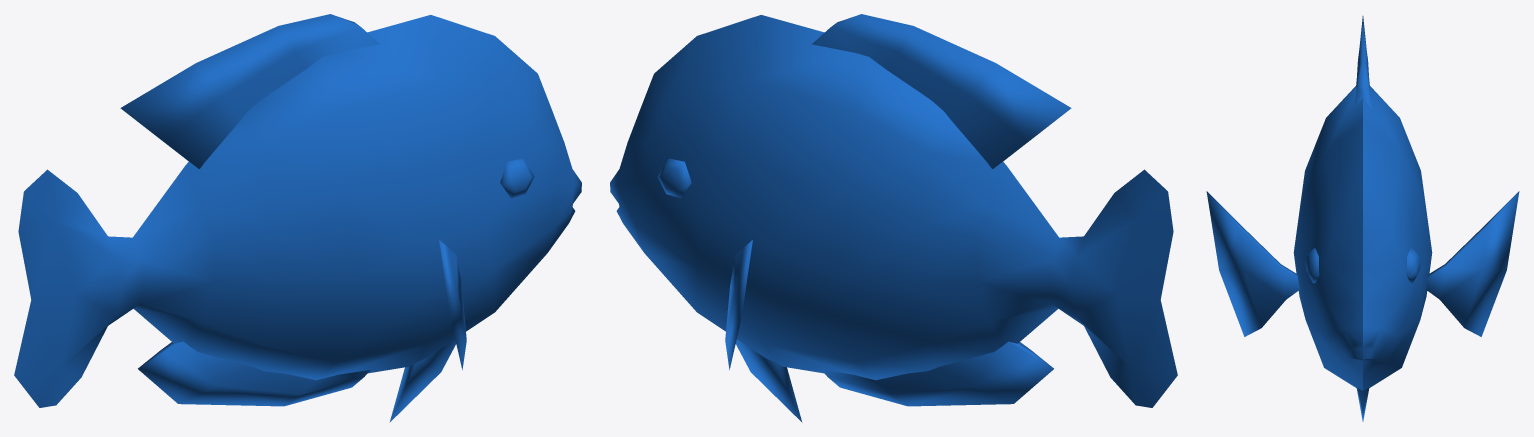
Rendered from ParkPeixe.fbx.
3 renders of one model, left to right at view 1: azimuth 30°, elevation 25°; view 2: azimuth 150°, elevation 25°; view 3: azimuth 270°, elevation 25°, orthographic. The views are drawn at different scales.
Parts seen in each view (by area): view 1: ParkPeixe; view 2: ParkPeixe; view 3: ParkPeixe.
Part boxes in pixels (box(x1,y1,x2,y2)): ParkPeixe: box(14, 14, 581, 422); ParkPeixe: box(610, 14, 1177, 422); ParkPeixe: box(1206, 16, 1519, 421).
Size of the model in its own units: 49.09 by 35.04 by 29.34.
